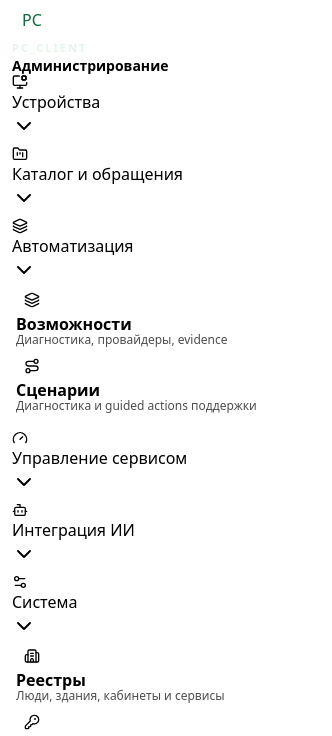
Scenario: AppSidebar › allows collapsing the active admin domain after it was auto-expanded
What coordinates should you click on to do the following:
click the button "Система"
I would click on:
 (45, 606)
Its box is [12,574,78,638].
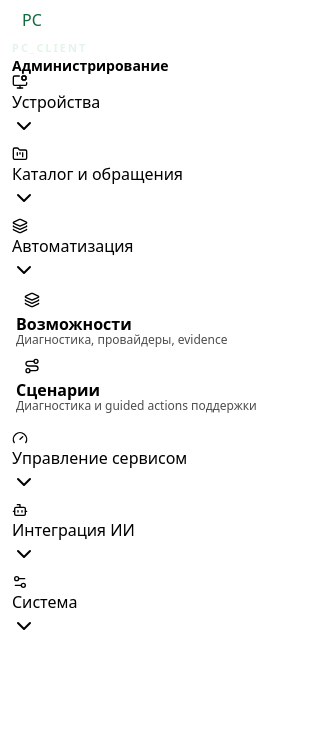
Expected: the link "Реестры" is gone
